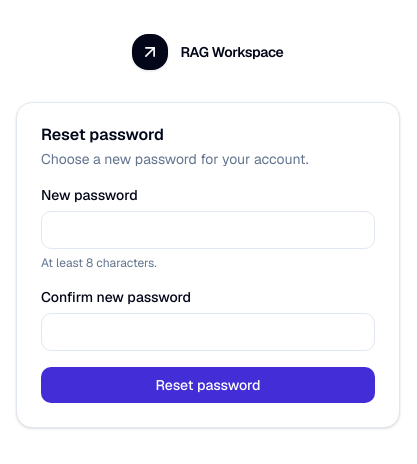
Test case: ResetPasswordPage › shows the backend's error message for an already-used token
The image size is (417, 464).
Type "a brand new password" into the password field labelled "New password".
click(208, 230); type("a brand new password")  # box x1=41 y1=211 x2=375 y2=249
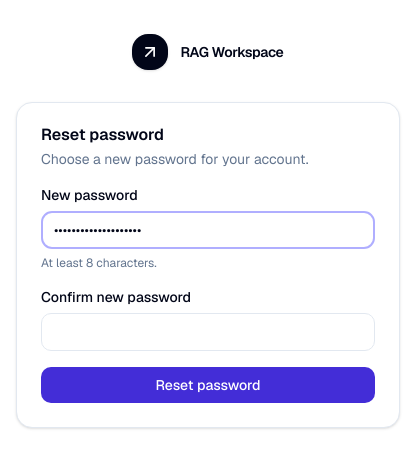
Type "a brand new password" into the password field labelled "Confirm new password".
click(208, 332); type("a brand new password")  # box x1=41 y1=313 x2=375 y2=351
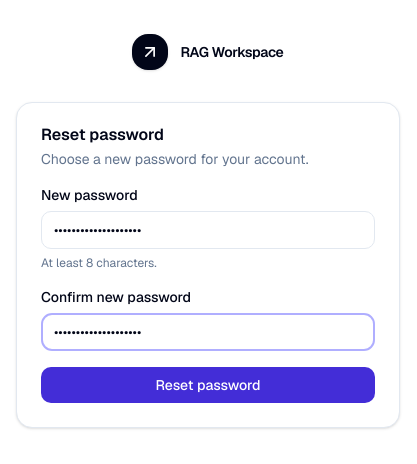
Click the button "Reset password".
click(208, 385)  # box x1=41 y1=367 x2=375 y2=403
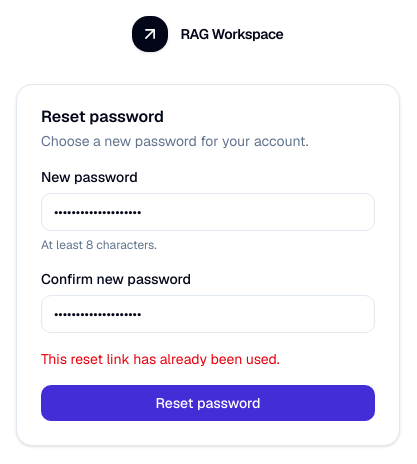
Now the text "This reset link has already been used." is shown, box x1=41 y1=350 x2=280 y2=368
